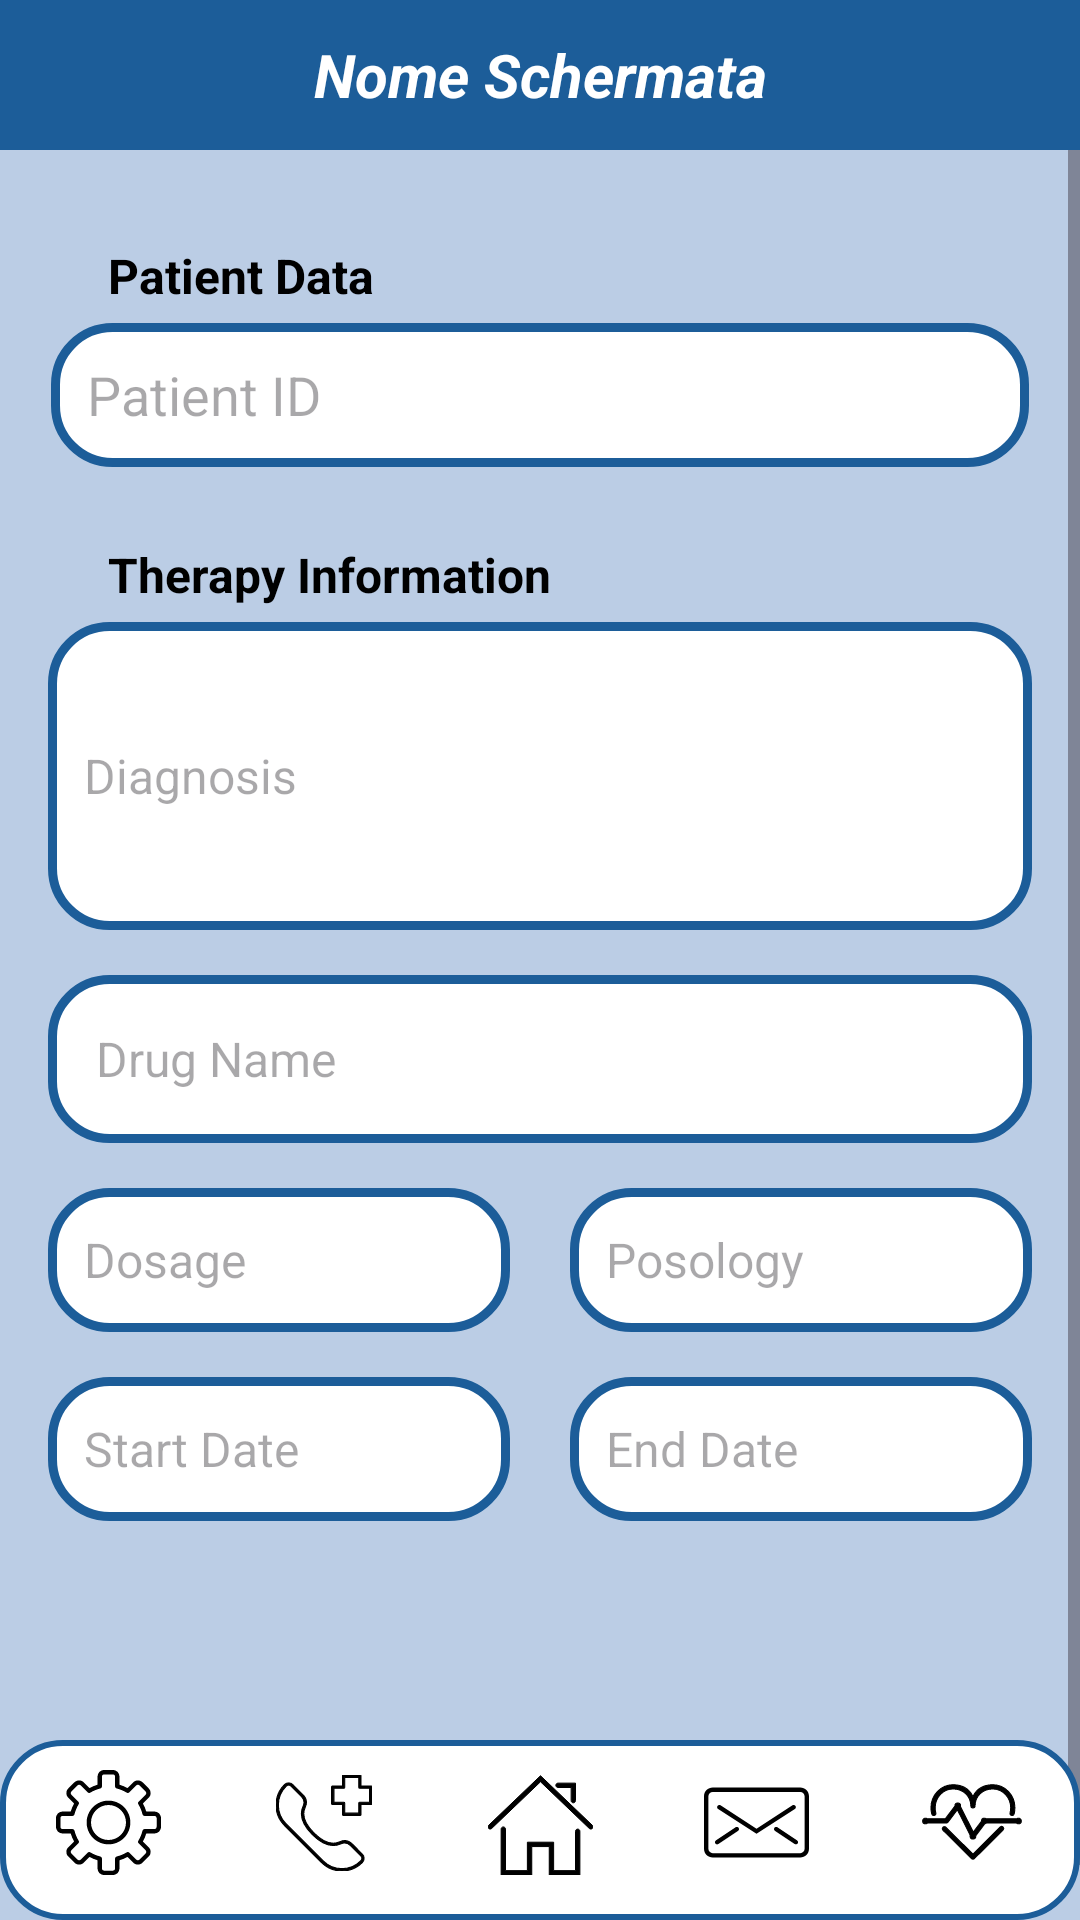

Named icons in this screenshot (1080×1920) and their centers, [x,y]:
home: [540,1825]
message: [756,1822]
misurazioni: [972,1822]
setting: [108,1822]
sos: [324,1823]
